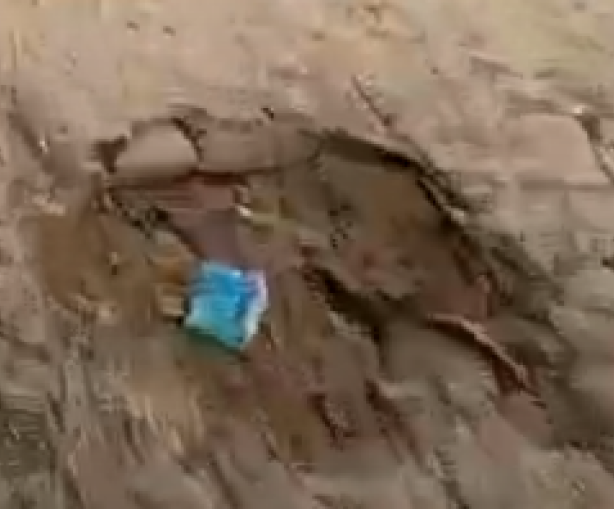Berlubang: (29, 111, 581, 477)
